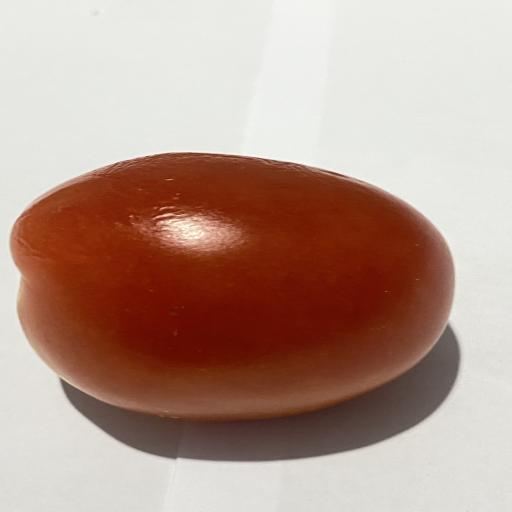overipe: (11, 153, 454, 420)
spoiled: (11, 153, 454, 420)
